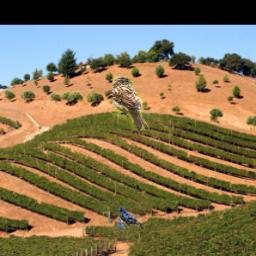Crow: (118, 207, 145, 229)
Sparrow: (111, 75, 148, 130)
